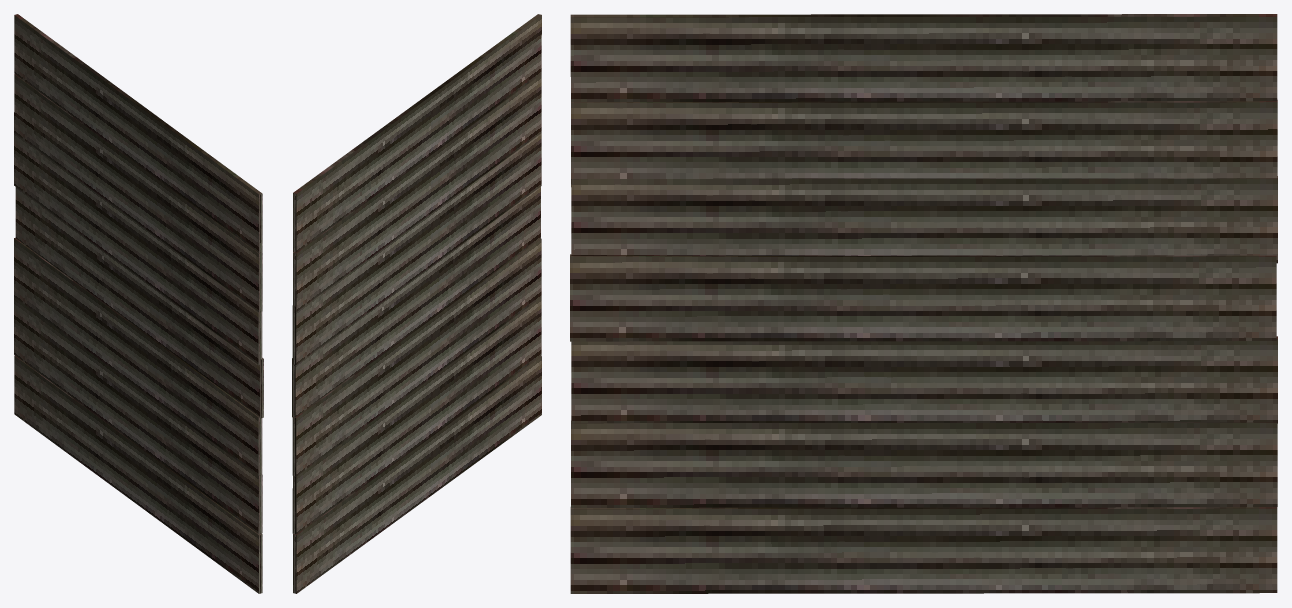
File: garagedoor.glb
3 views of the same model, side by side, from view 1: azimuth 30°, elevation 25°; view 2: azimuth 150°, elevation 25°; view 3: azimuth 270°, elevation 25° (orthographic). The views are drawn at different scales.
Visible parts, largest first — view 1: panel1.007; view 2: panel1.007; view 3: panel1.007.
Boxes of the visible parts, x1=… form: panel1.007: x1=14, y1=14, x2=263, y2=593; panel1.007: x1=292, y1=14, x2=541, y2=593; panel1.007: x1=570, y1=14, x2=1277, y2=593.
Size of the model in its own units: 0.1352 by 10.82 by 12.02.
Materials: 1 (1 with a texture image).
